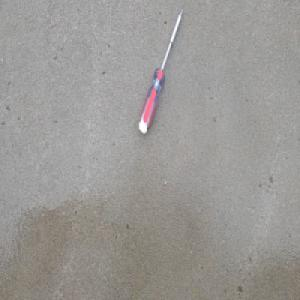Screwdriver: (137, 6, 183, 136)
